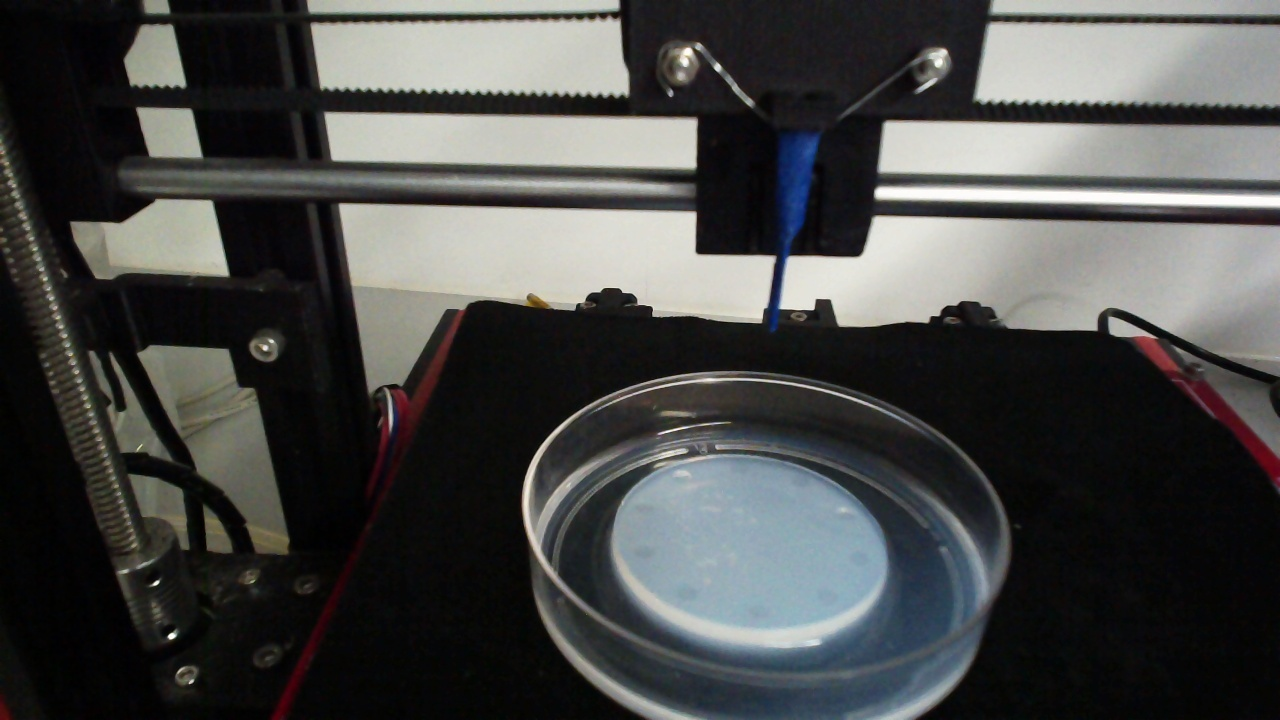groove: (814, 587, 841, 607), (674, 583, 699, 604), (833, 507, 860, 524), (744, 602, 770, 619), (848, 550, 870, 568), (632, 543, 655, 560), (790, 474, 813, 489), (671, 469, 692, 485), (728, 461, 749, 476), (632, 501, 654, 515)
needle: (769, 132, 818, 334)
